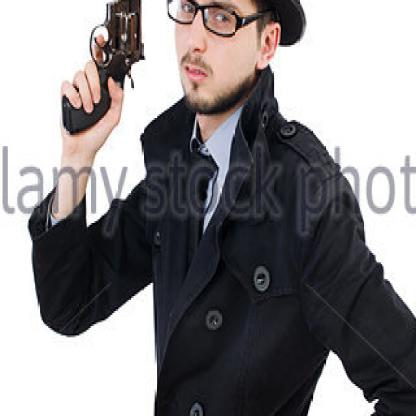gun: (56, 0, 153, 139)
